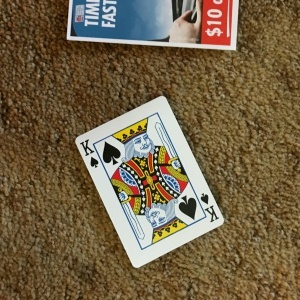card: (74, 93, 225, 265)
